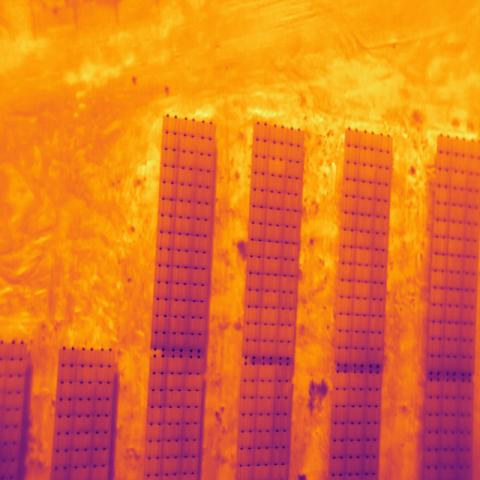fault: (268, 157, 286, 178)
